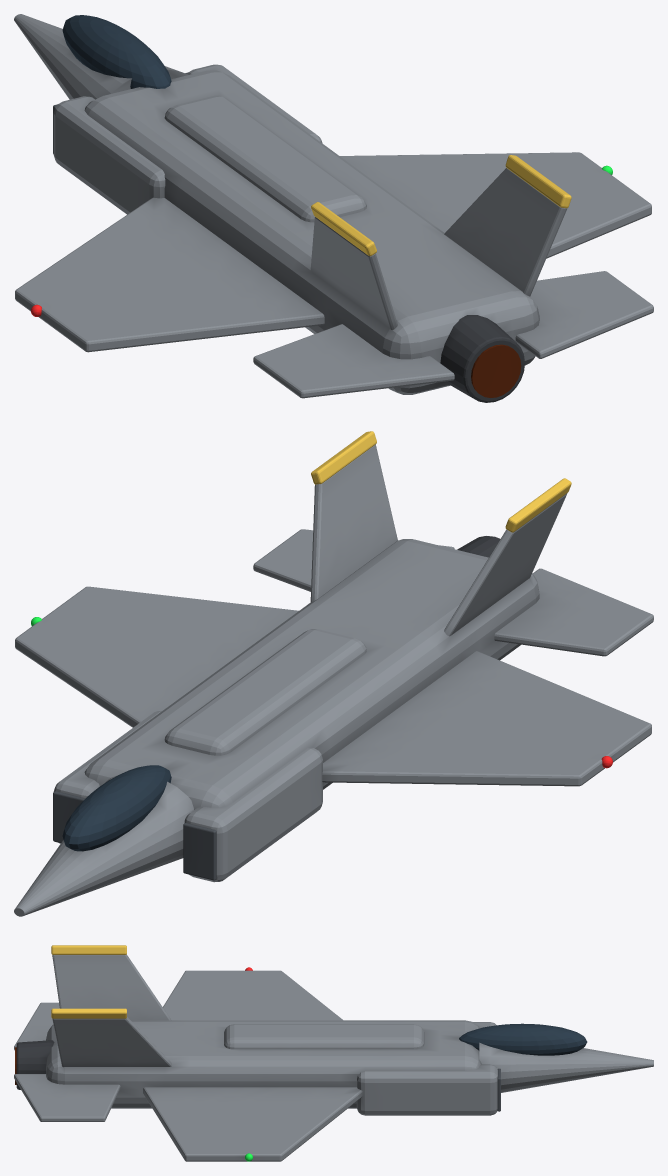
File: jet.glb
3 views of the same model, one above another, from view 1: azimuth 30°, elevation 25°; view 2: azimuth 150°, elevation 25°; view 3: azimuth 270°, elevation 25° (orthographic). The views are drawn at different scales.
Parts seen in each view (by area): view 1: body, wing, wing.001, spine, fin.001, elevator, intake, elevator.001, canopy, fin, nose, nozzle (+4 smaller); view 2: body, wing, wing.001, spine, fin.001, nose, intake, elevator, canopy, fin, elevator.001, intake-mouth (+4 smaller); view 3: body, wing.001, wing, intake.001, fin, spine, fin.001, nose, elevator.001, canopy, nozzle, elevator (+2 smaller).
Boxes of the visible parts, box(x1,y1,x2,y2) form: body: box(84, 70, 539, 394); wing: box(15, 197, 324, 352); wing.001: box(340, 152, 651, 258); spine: box(164, 95, 366, 222); fin.001: box(444, 168, 567, 296); elevator: box(253, 324, 454, 398); intake: box(53, 96, 165, 214); elevator.001: box(515, 271, 653, 358); canopy: box(62, 15, 171, 88); fin: box(310, 217, 397, 329); nose: box(14, 14, 188, 99); nozzle: box(440, 315, 524, 402); body: box(84, 539, 539, 809); wing: box(322, 651, 651, 786); wing.001: box(15, 586, 298, 727); spine: box(164, 629, 366, 755); fin.001: box(310, 444, 397, 602); nose: box(14, 775, 193, 916); intake: box(184, 747, 322, 882); elevator: box(494, 568, 653, 656); canopy: box(62, 765, 171, 851); fin: box(444, 493, 567, 636); elevator.001: box(253, 529, 454, 591); intake-mouth: box(183, 823, 216, 880); body: box(46, 1020, 481, 1108); wing.001: box(143, 1087, 362, 1161); wing: box(163, 970, 342, 1020); intake.001: box(356, 1064, 497, 1115); fin: box(52, 954, 171, 1020); spine: box(224, 1024, 424, 1049); fin.001: box(52, 1017, 171, 1067); nose: box(479, 1042, 653, 1092); elevator.001: box(14, 1074, 120, 1121); canopy: box(459, 1023, 587, 1055); nozzle: box(16, 1040, 54, 1089); elevator: box(14, 1002, 59, 1050).
Bounding box in the file's own units: 7.58 × 2.13 × 10.82.
